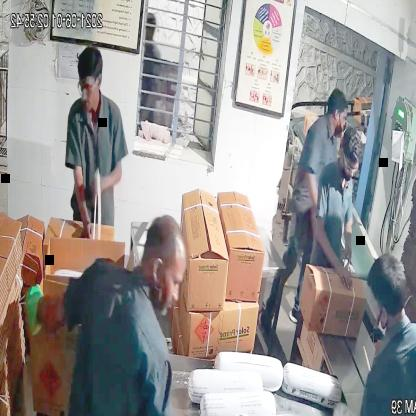goggles: (76, 70, 105, 100), (339, 153, 361, 177)
no_goggles: (150, 259, 188, 293)
